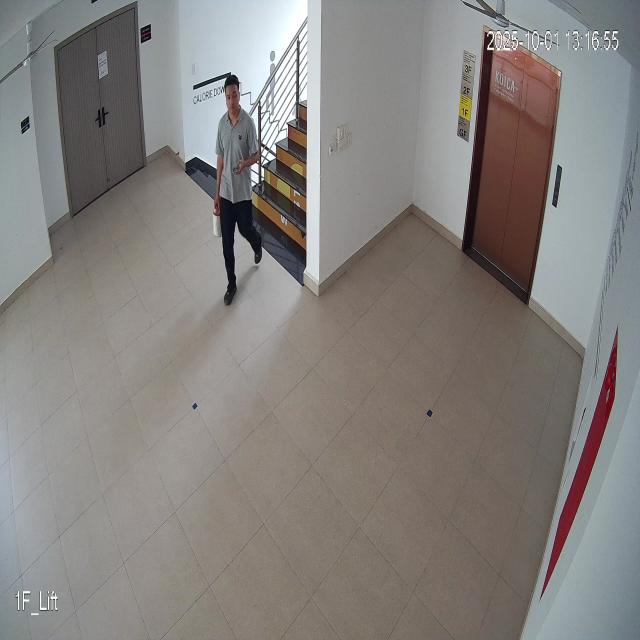face: (223, 70, 243, 122)
